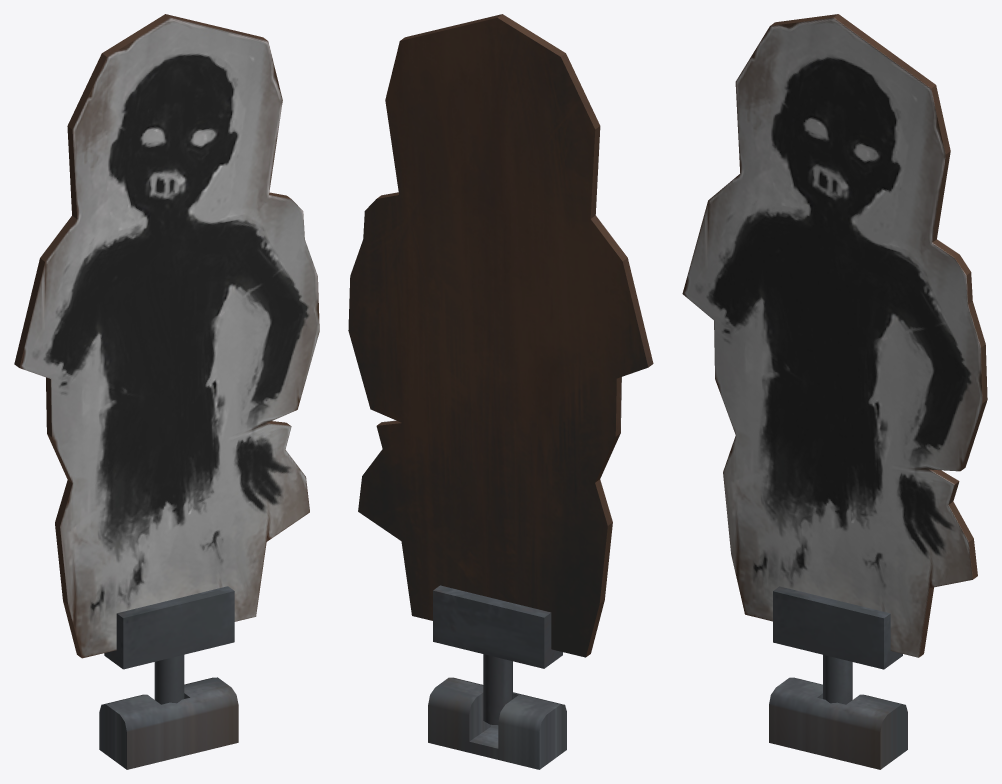
The model's file is target_zombie.glb.
3 views of the same model, side by side, from view 1: azimuth 30°, elevation 25°; view 2: azimuth 150°, elevation 25°; view 3: azimuth 330°, elevation 25° (orthographic).
Visible parts, largest first — view 1: target, support_target; view 2: target, support_target; view 3: target, support_target.
Boxes of the visible parts, <box> form: target: <box>14,14,319,704</box>; support_target: <box>99,677,238,769</box>; target: <box>348,14,653,724</box>; support_target: <box>428,677,566,769</box>; target: <box>682,14,987,704</box>; support_target: <box>769,677,907,769</box>.
Bounding box in the file's own units: 1.4 × 3.26 × 0.2234.
1 material, 1 textured.
